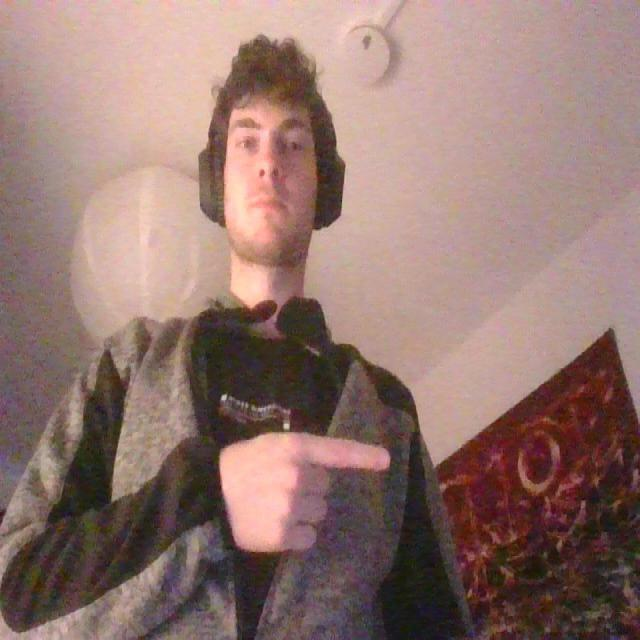right: (211, 426, 395, 556)
